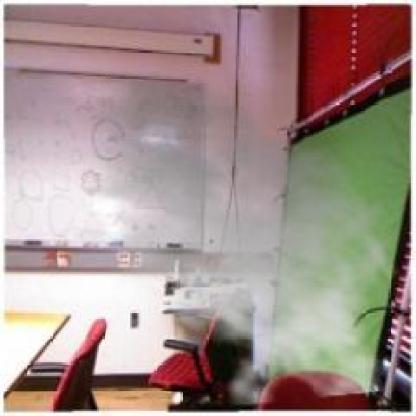Smoke: (50, 70, 411, 407)
